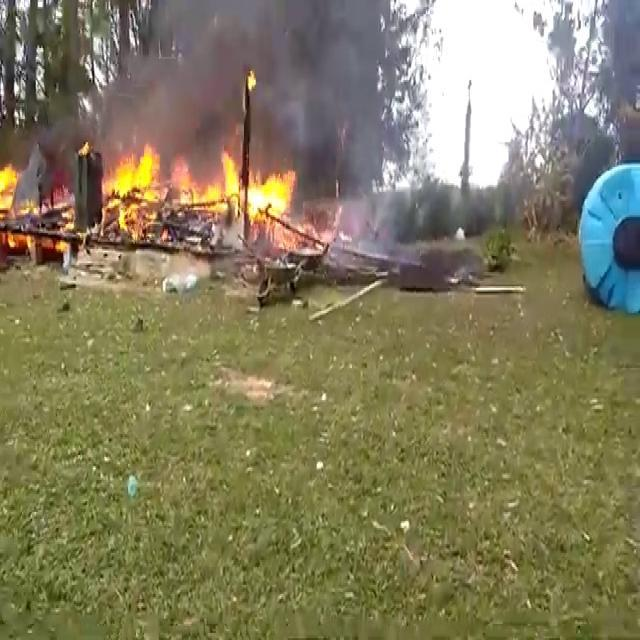Fire: (172, 149, 239, 217), (105, 142, 158, 226), (247, 169, 295, 226), (3, 162, 16, 216), (4, 229, 32, 249), (52, 237, 68, 254)
Smoke: (14, 8, 343, 212), (323, 4, 410, 190), (324, 124, 418, 274), (78, 30, 180, 144)
